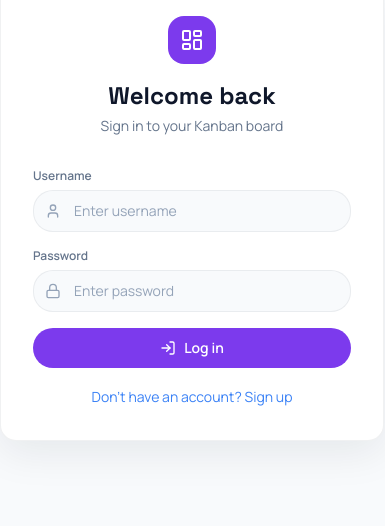
Test: LoginForm › does not submit with empty username
The width and height of the screenshot is (385, 526).
In the password field labelled "Password": (192, 291) [33,270,351,312], type "password"
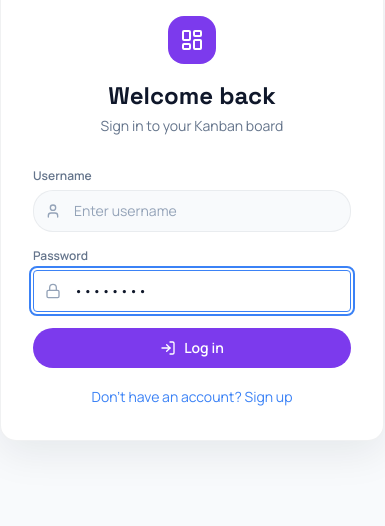
Click the button "Log in": (192, 348) [33,328,351,368]
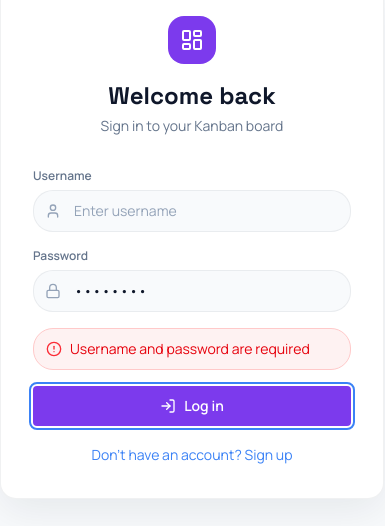
Now the text "Username and password are required" is shown, box [70,339,310,359]
